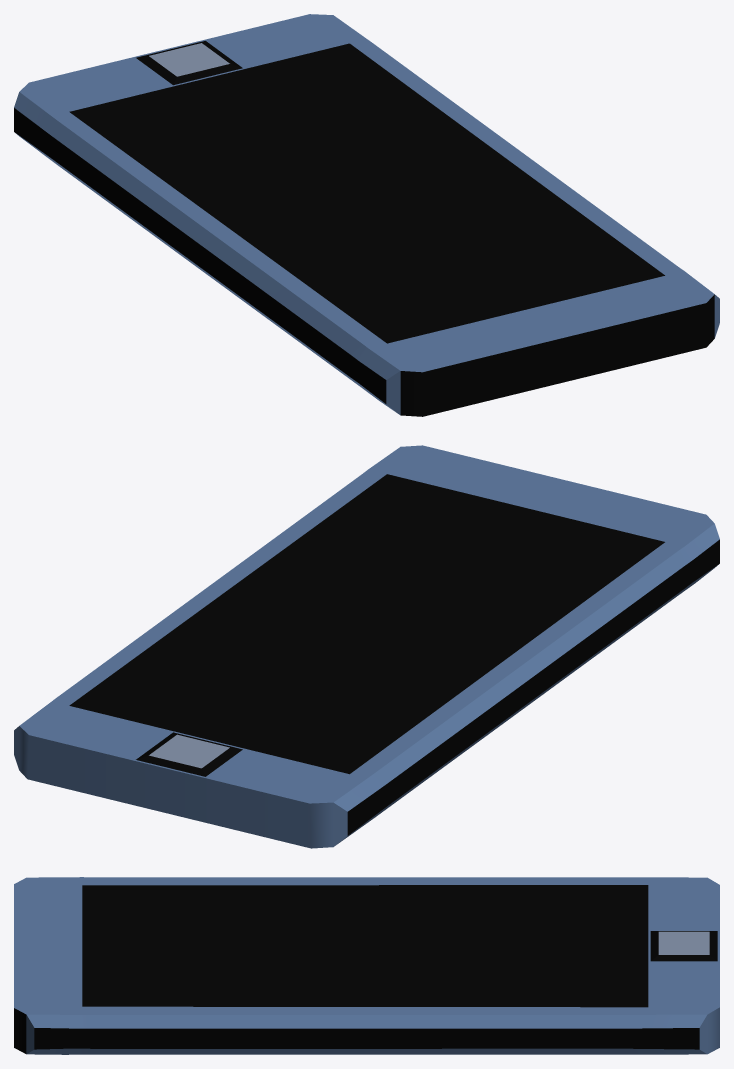
The model's file is phone.fbx.
3 views of the same model, one above another, from view 1: azimuth 30°, elevation 25°; view 2: azimuth 150°, elevation 25°; view 3: azimuth 270°, elevation 25° (orthographic). The views are drawn at different scales.
Visible parts, largest first — view 1: pCube1; view 2: pCube1; view 3: pCube1.
Boxes of the visible parts, x1=… form: pCube1: x1=14, y1=14, x2=719, y2=416; pCube1: x1=14, y1=445, x2=719, y2=848; pCube1: x1=14, y1=877, x2=719, y2=1054.
Bounding box in the file's own units: 0.4874 × 0.0666 × 1.
